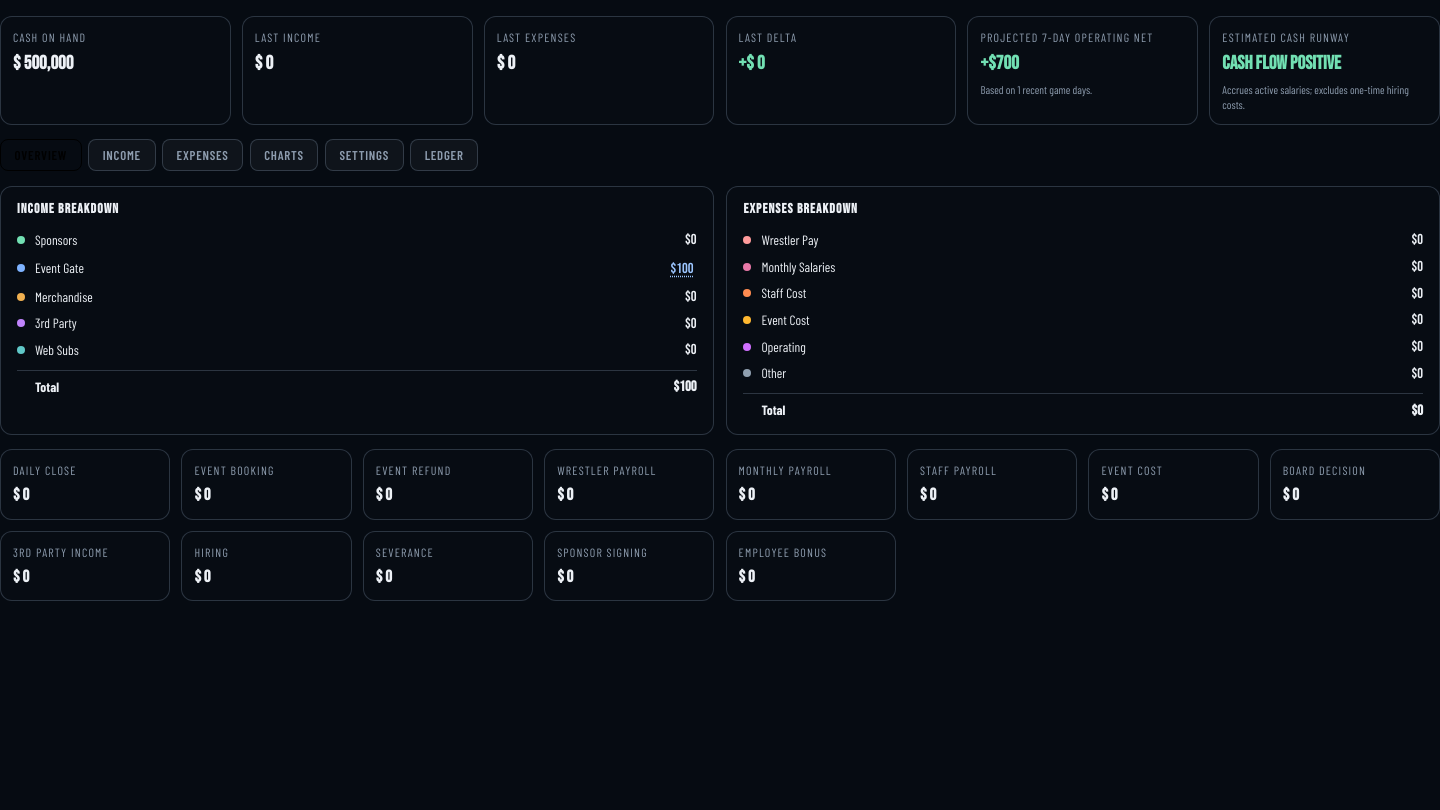
it: ManageFinancesModule event gate breakdown › labels legacy Event Gate amounts that do not have saved event details
Click the button "Income". click: (122, 155)
box: [88, 139, 156, 171]
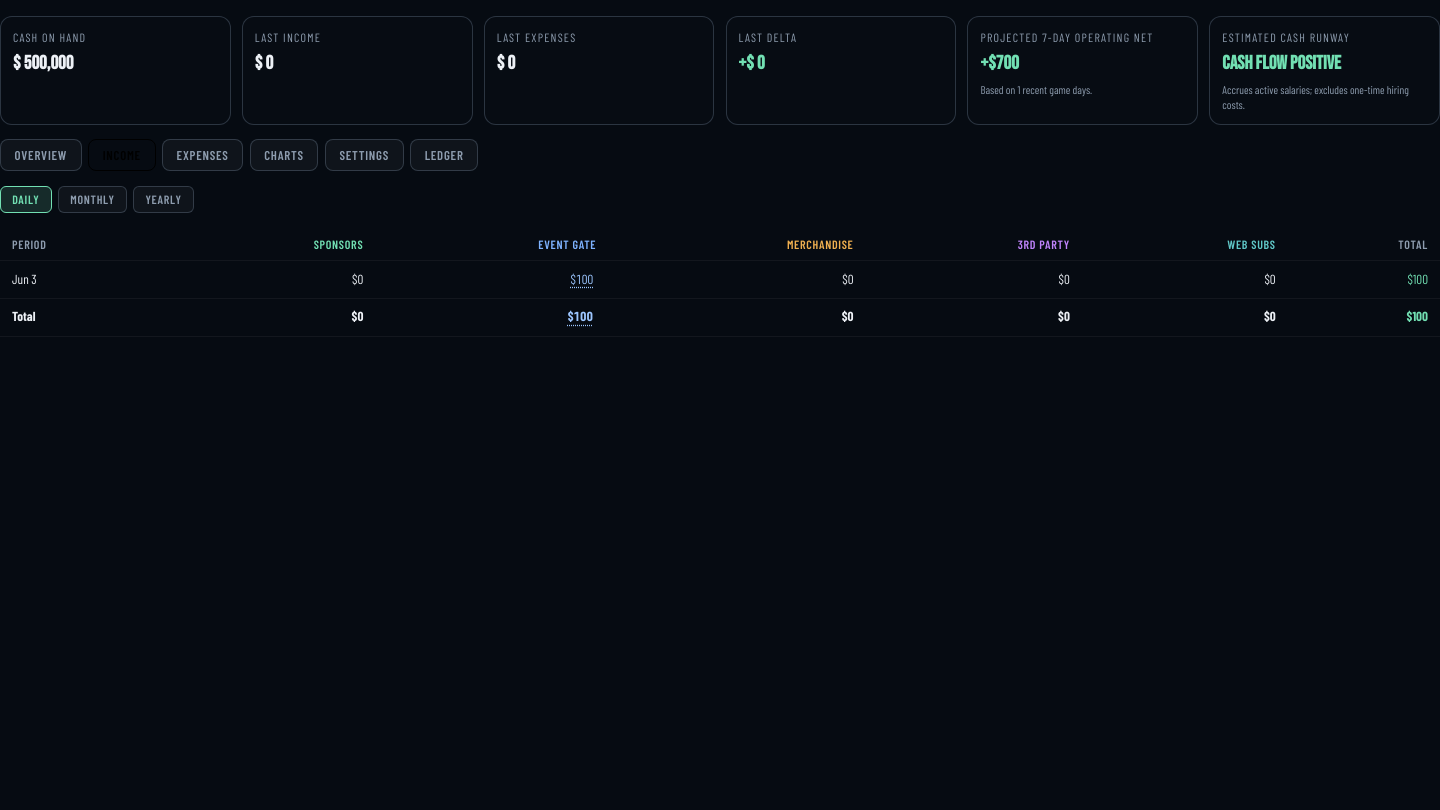
Click the button "$100" in the row of "Jun 3". click: (582, 279)
box: [567, 269, 596, 290]
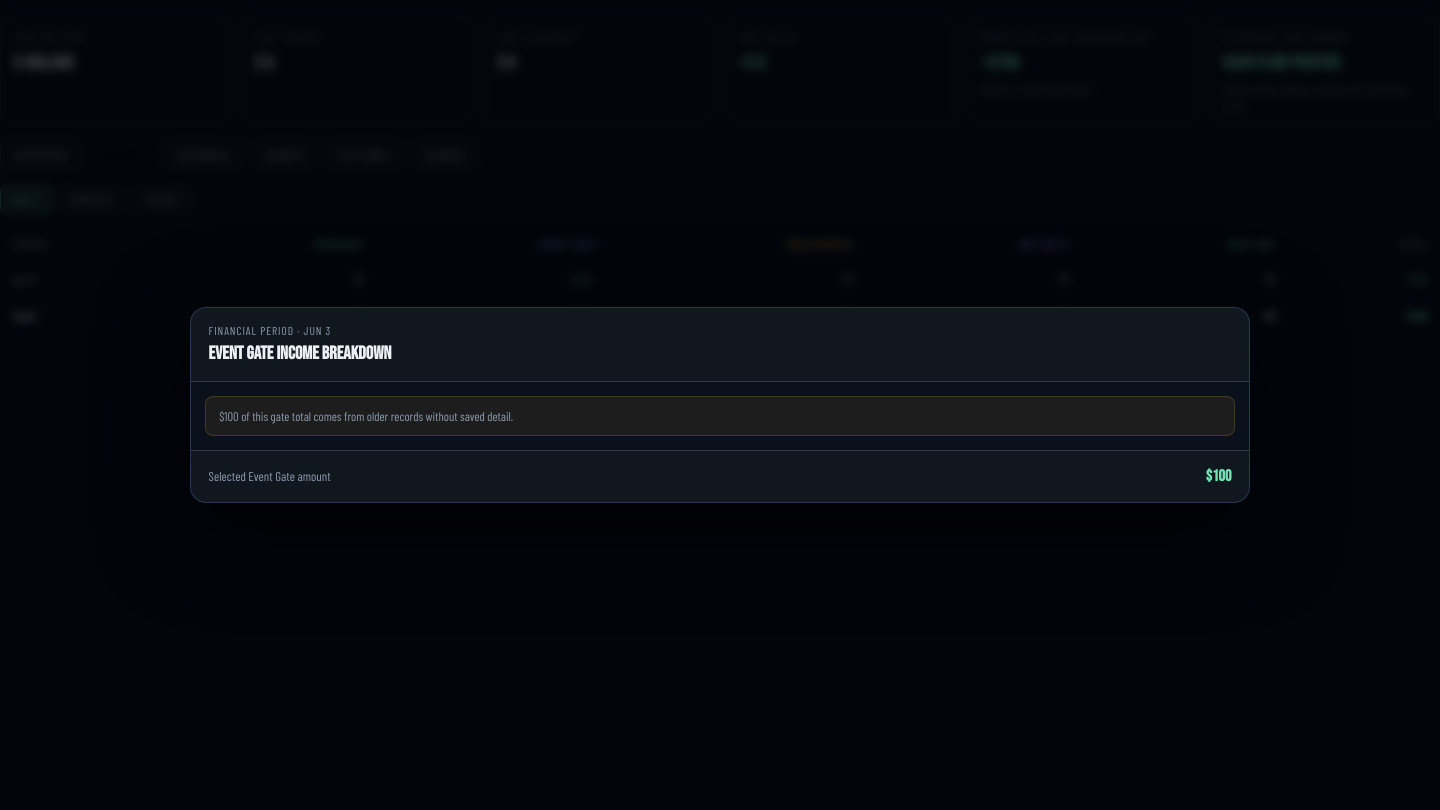
Expected: the dialog is shown, [190, 307, 1250, 502]
